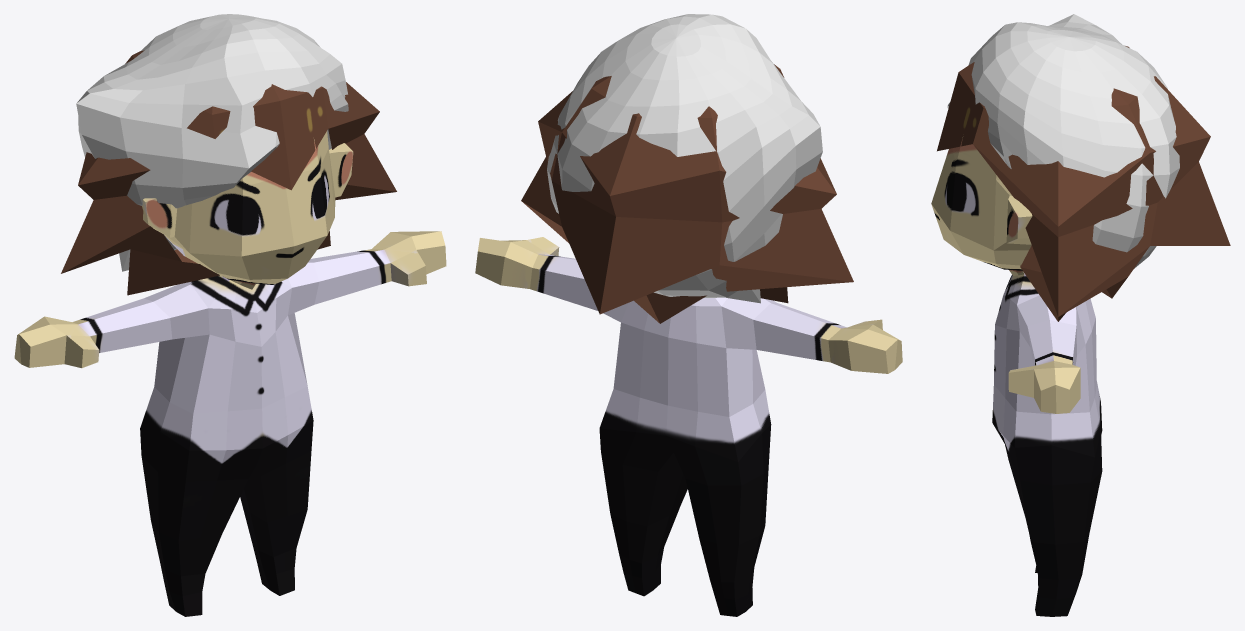
Rendered from camil_personaje.fbx.
3 views of the same model, side by side, from view 1: azimuth 30°, elevation 25°; view 2: azimuth 150°, elevation 25°; view 3: azimuth 270°, elevation 25° (orthographic). The views are drawn at different scales.
Visible parts, largest first — view 1: cuerpo, cabello, Sphere; view 2: cuerpo, Sphere, cabello; view 3: cuerpo, cabello, Sphere.
Part boxes in pixels (x1,y1,x2,y2): cuerpo: [14, 131, 446, 616]; cabello: [76, 14, 348, 271]; Sphere: [61, 50, 396, 295]; cuerpo: [475, 237, 902, 616]; Sphere: [521, 64, 853, 323]; cabello: [547, 14, 822, 303]; cuerpo: [931, 136, 1102, 616]; cabello: [947, 14, 1179, 268]; Sphere: [937, 46, 1230, 321].
Bounding box in the file's own units: 247 × 323 × 156.
2 materials, 2 textured.
